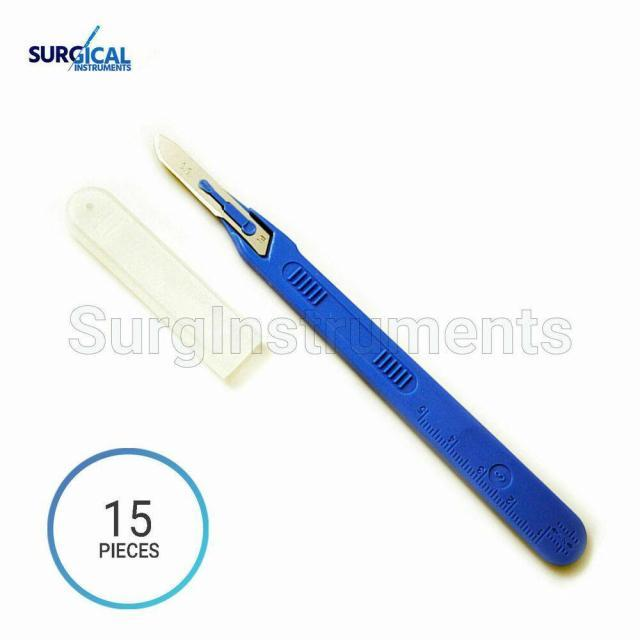Scalpel: (140, 115, 584, 572)
